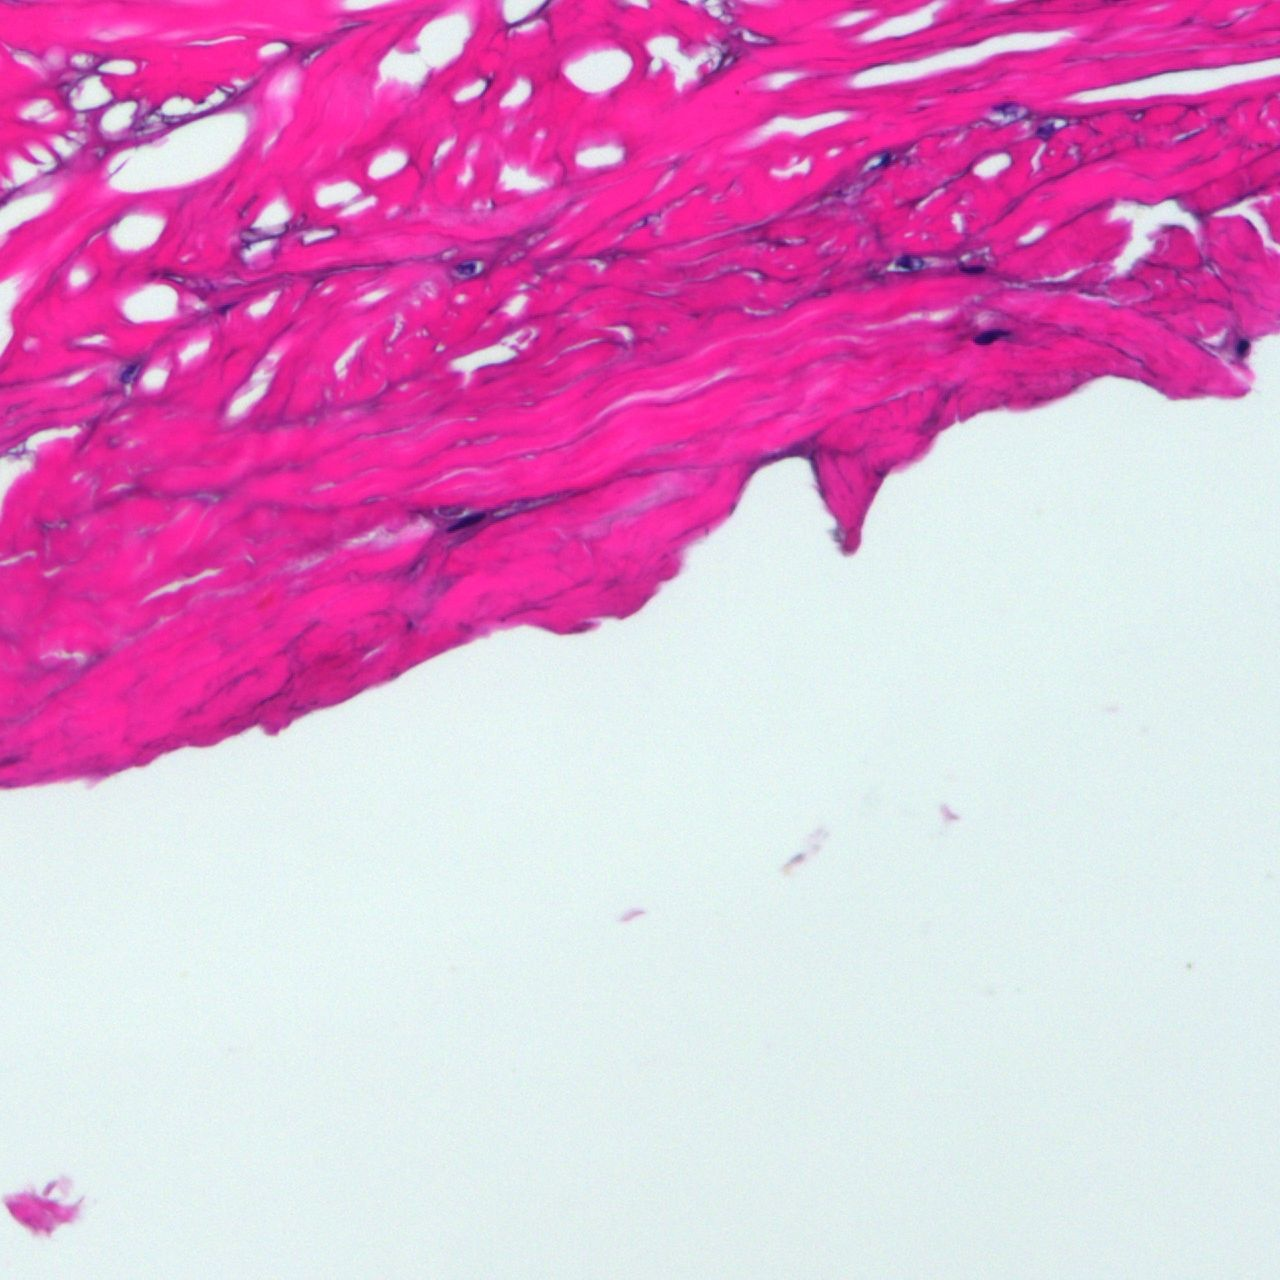nucleus-HE: (444, 508, 488, 535), (1035, 120, 1058, 141), (973, 331, 1007, 343), (217, 299, 237, 316), (120, 362, 138, 380), (458, 261, 475, 275), (896, 256, 913, 268), (961, 265, 985, 273), (1237, 339, 1247, 355)
